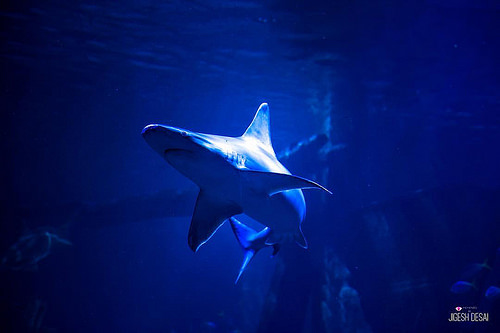shark: (118, 73, 340, 292)
